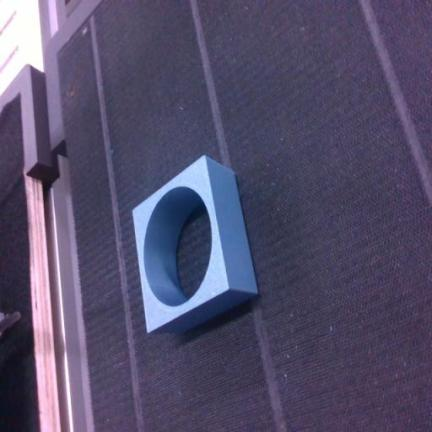hole: (132, 156, 257, 332)
